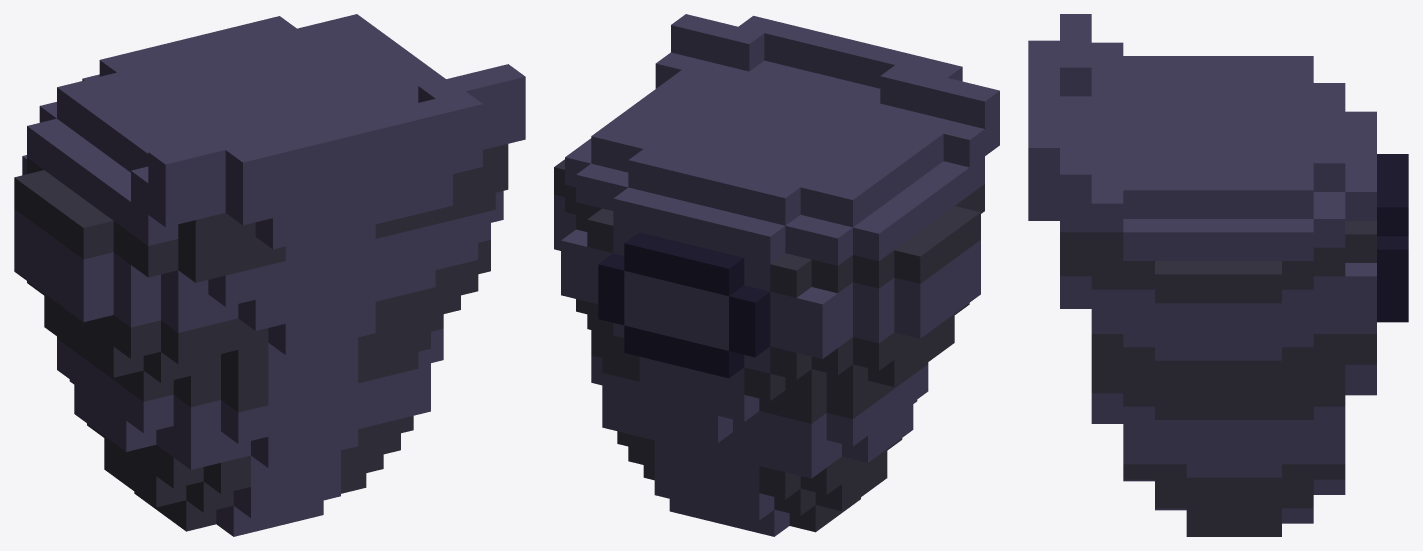
Rendered from Soldier_Export-6.obj.
3 renders of one model, left to right at view 1: azimuth 30°, elevation 25°; view 2: azimuth 150°, elevation 25°; view 3: azimuth 270°, elevation 25°, orthographic. The views are drawn at different scales.
Bounding box in the file's own units: 1.4 × 1.4 × 1.2.
1 material, 1 textured.
